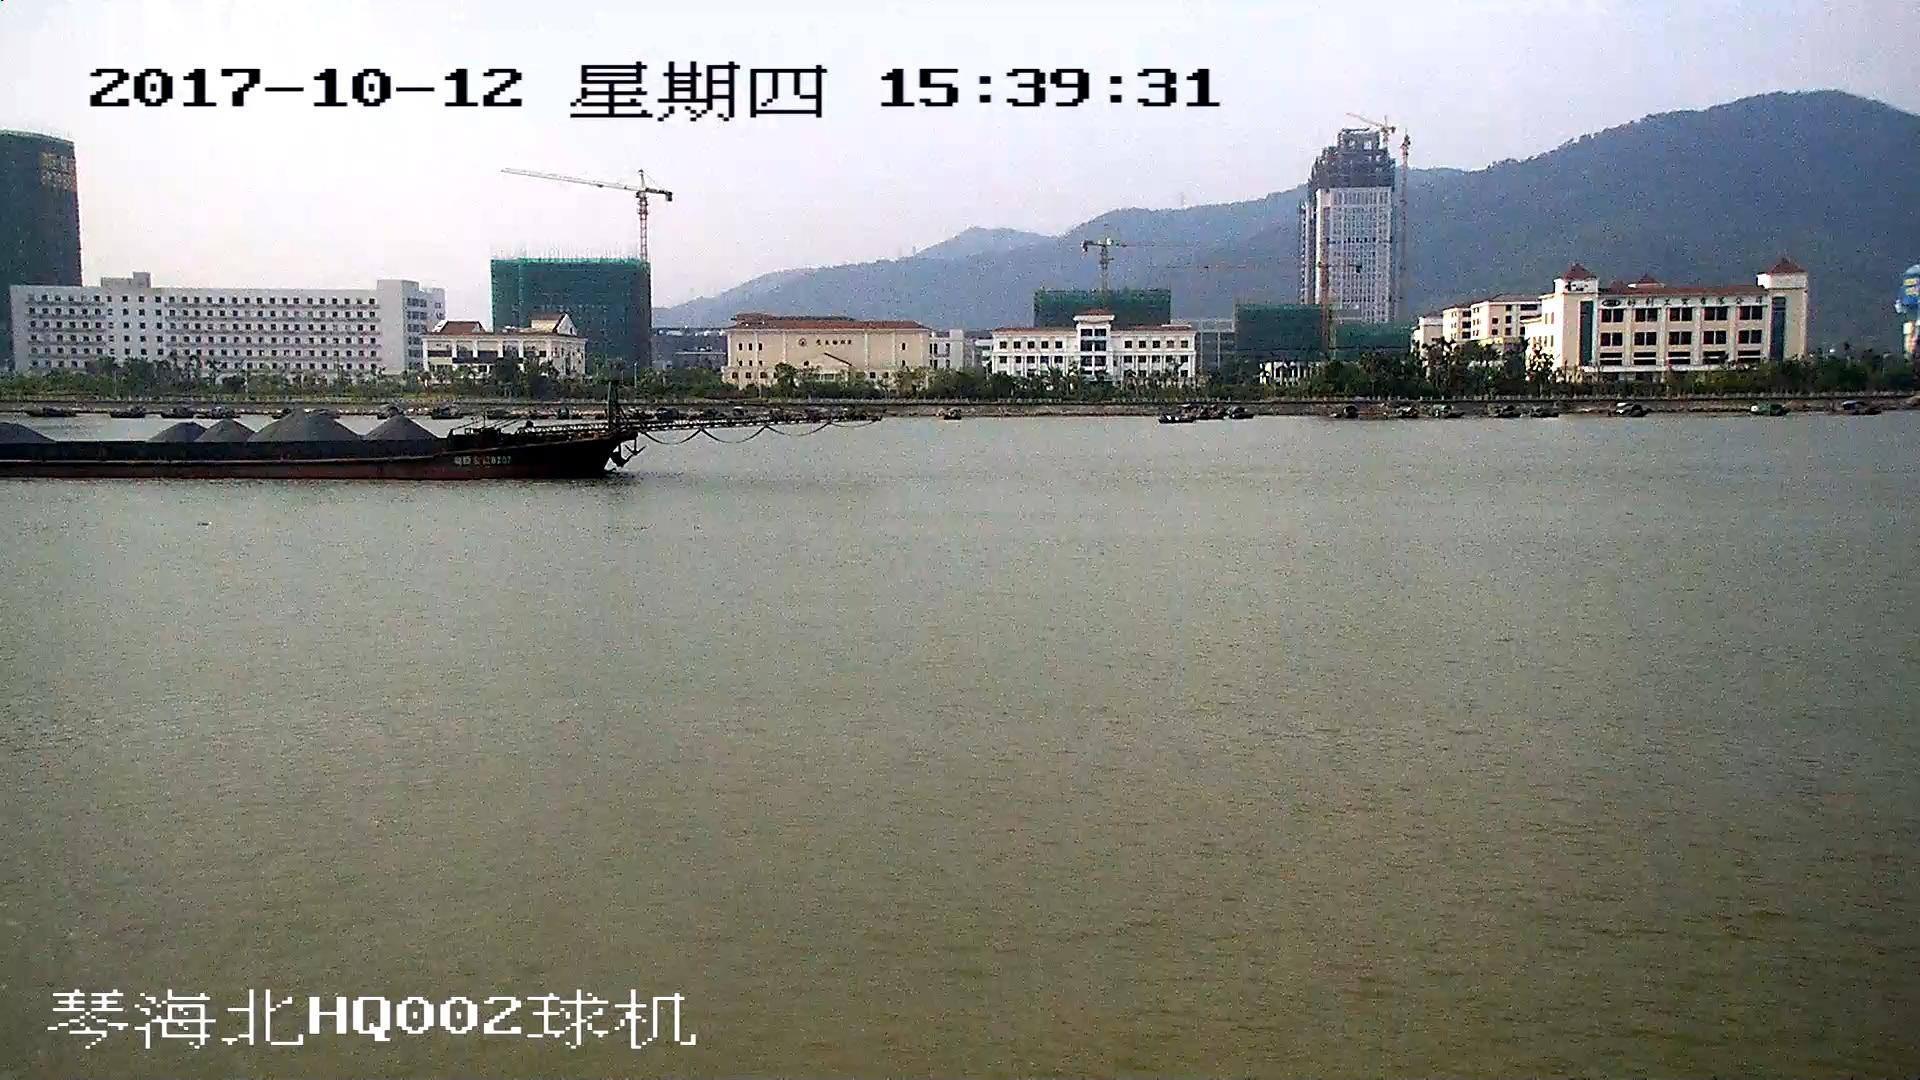ore carrier: (1, 369, 817, 476)
